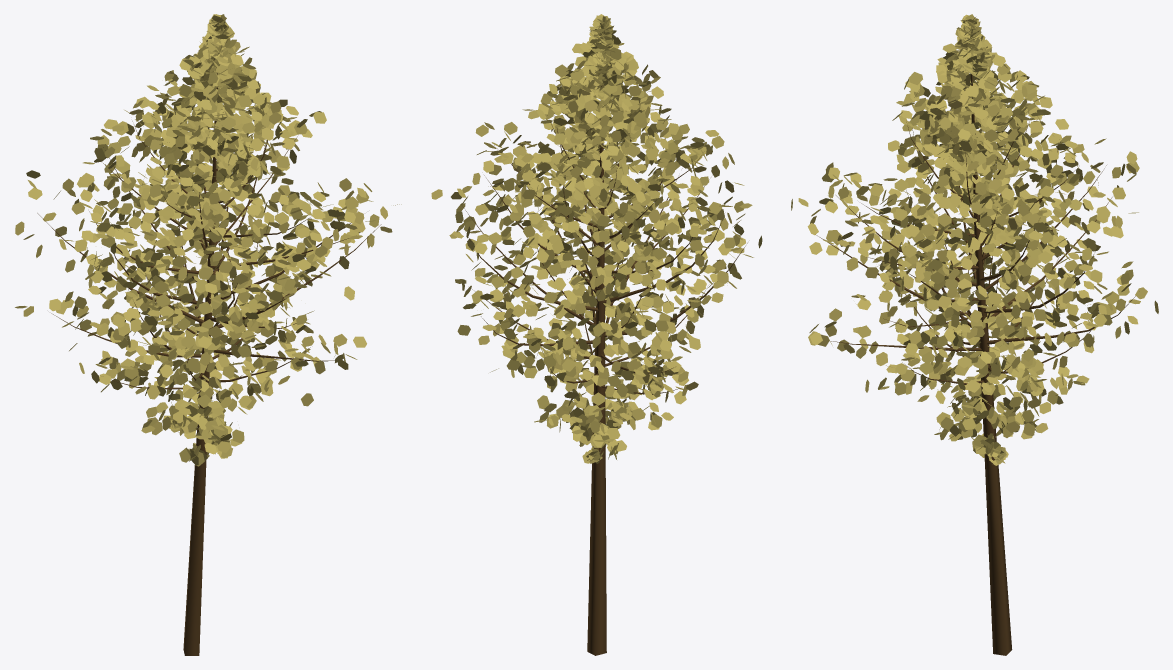
Rendered from tree-tree-005.glb.
The picture shows the model from 3 angles, left to right: view 1: azimuth 30°, elevation 25°; view 2: azimuth 150°, elevation 25°; view 3: azimuth 270°, elevation 25°; orthographic projection. The views are drawn at different scales.
Parts seen in each view (by area): view 1: v_tree.005; view 2: v_tree.005; view 3: v_tree.005.
Boxes of the visible parts, box(x1,y1,x2,y2) form: v_tree.005: box(15, 14, 401, 655); v_tree.005: box(431, 14, 762, 655); v_tree.005: box(791, 14, 1158, 655).
Bounding box in the file's own units: 8.03 × 15.17 × 7.88.
